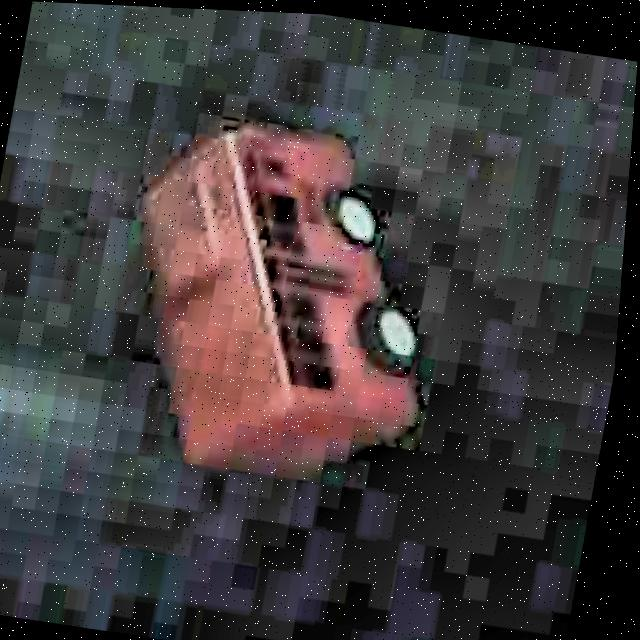bus: (86, 97, 479, 503)
